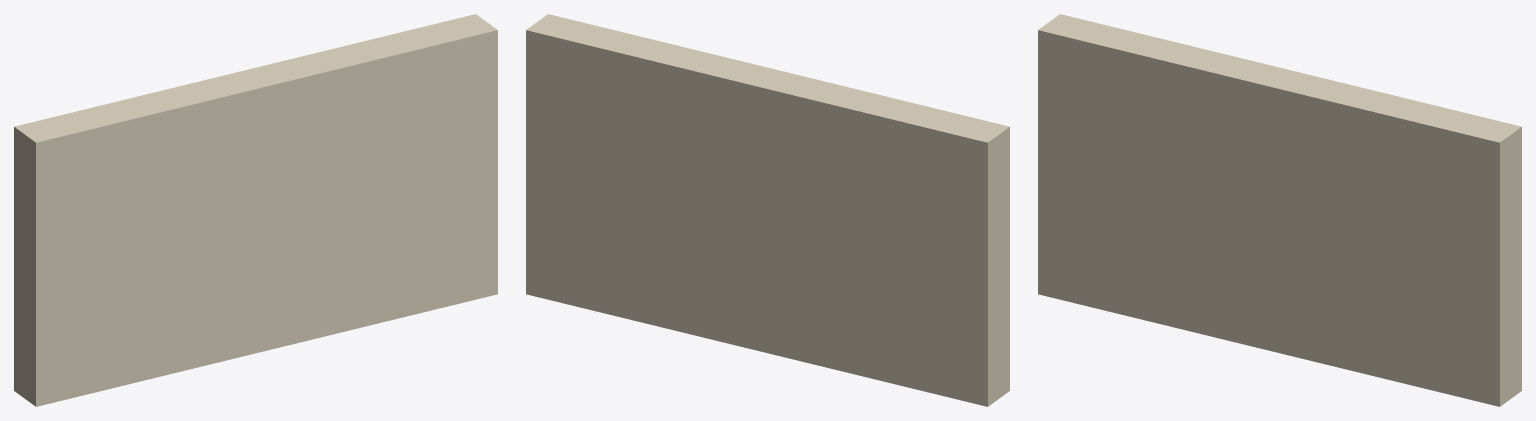
3 renders of one model, left to right at view 1: azimuth 30°, elevation 25°; view 2: azimuth 150°, elevation 25°; view 3: azimuth 330°, elevation 25°, orthographic.
Visible parts, largest first — view 1: B-FF-WINDOW-006-SILL; view 2: B-FF-WINDOW-006-SILL; view 3: B-FF-WINDOW-006-SILL.
Boxes of the visible parts, bbox=[...] form: B-FF-WINDOW-006-SILL: bbox=[14, 14, 497, 406]; B-FF-WINDOW-006-SILL: bbox=[526, 14, 1009, 406]; B-FF-WINDOW-006-SILL: bbox=[1038, 14, 1521, 406].
Size of the model in its own units: 1.5 by 0.82 by 0.124.
